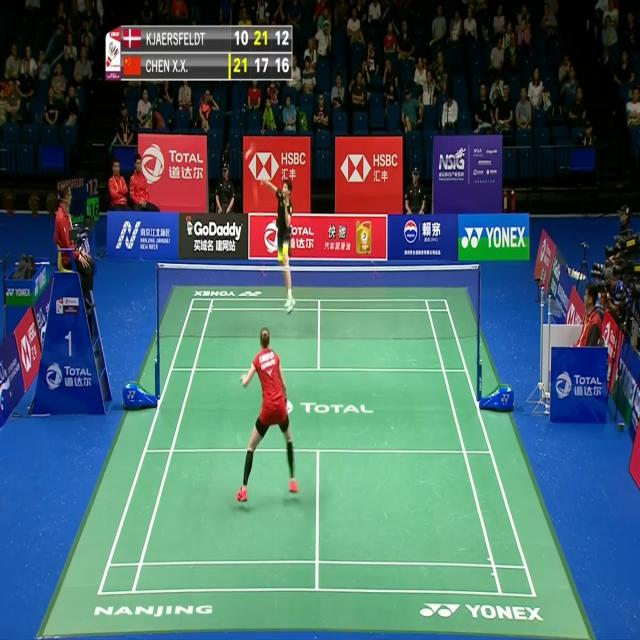Player1: (233, 325, 301, 511)
Player2: (258, 170, 298, 316)
